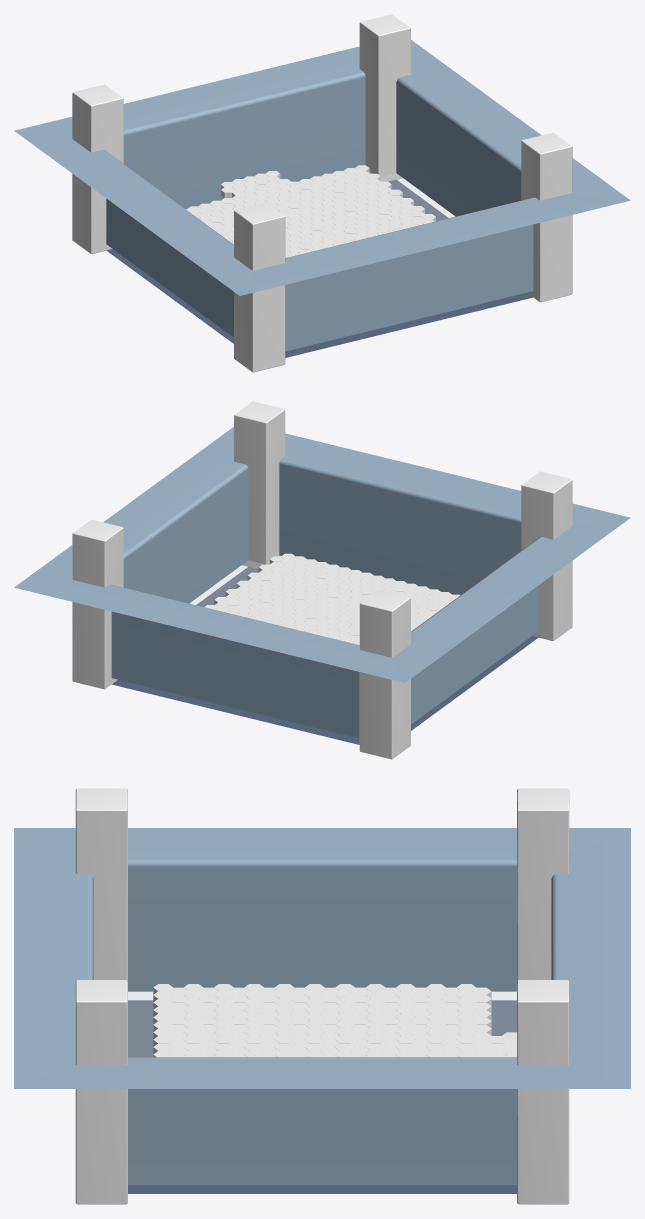
File: BlueSubLevel.fbx
3 views of the same model, one above another, from view 1: azimuth 30°, elevation 25°; view 2: azimuth 150°, elevation 25°; view 3: azimuth 270°, elevation 25° (orthographic). The views are drawn at different scales.
Visible parts, largest first — view 1: Walls, Pillar, HexFloor, UnderwaterPlane, ExitCubes, WaterPlane; view 2: Walls, Pillar, HexFloor, UnderwaterPlane, WaterPlane; view 3: Walls, Pillar, HexFloor, UnderwaterPlane, WaterPlane, ExitCubes.
Boxes of the visible parts, left/top/right/bottom form: Walls: left=14, top=40, right=630, bottom=351; Pillar: left=72, top=14, right=572, bottom=372; HexFloor: left=186, top=165, right=435, bottom=257; UnderwaterPlane: left=106, top=179, right=532, bottom=357; ExitCubes: left=221, top=171, right=290, bottom=197; WaterPlane: left=370, top=172, right=454, bottom=220; Walls: left=14, top=427, right=630, bottom=738; Pillar: left=72, top=401, right=572, bottom=759; HexFloor: left=204, top=553, right=460, bottom=644; UnderwaterPlane: left=112, top=566, right=538, bottom=744; WaterPlane: left=190, top=560, right=269, bottom=606; Walls: left=14, top=828, right=630, bottom=1184; Pillar: left=75, top=788, right=569, bottom=1204; HexFloor: left=153, top=984, right=491, bottom=1057; UnderwaterPlane: left=128, top=1000, right=516, bottom=1193; WaterPlane: left=128, top=992, right=516, bottom=1056; ExitCubes: left=487, top=1032, right=516, bottom=1057.
Size of the model in its own units: 2349 by 856 by 2349.
